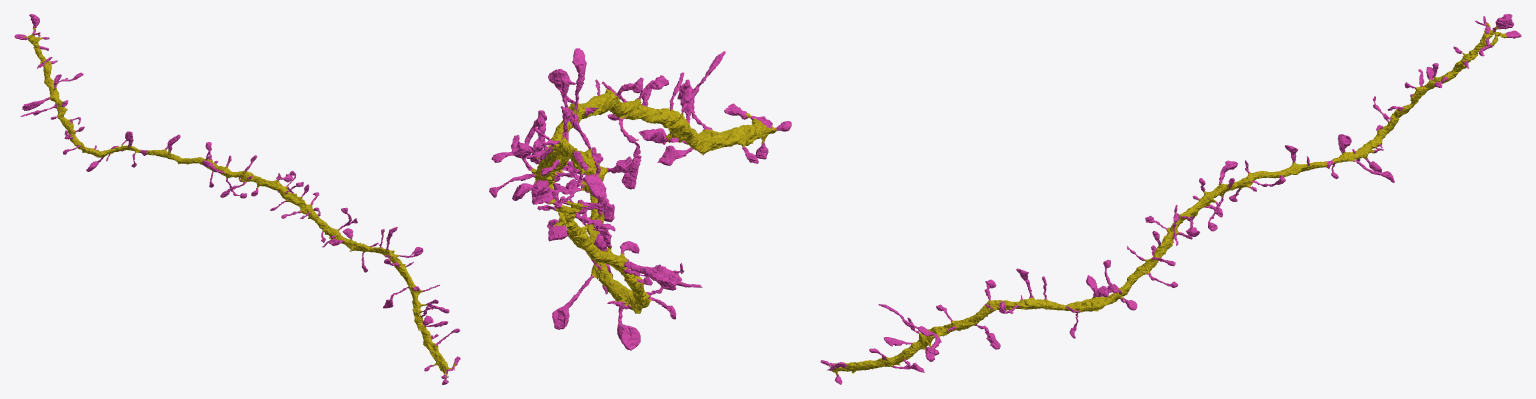
The model's file is sample_mesh.gltf.
The picture shows the model from 3 angles, left to right: view 1: azimuth 30°, elevation 25°; view 2: azimuth 150°, elevation 25°; view 3: azimuth 270°, elevation 25°; orthographic projection. The views are drawn at different scales.
Visible parts, largest first — view 1: Renderer Node; view 2: Renderer Node; view 3: Renderer Node.
Boxes of the visible parts, left/top/right/bottom form: Renderer Node: left=14, top=14, right=460, bottom=384; Renderer Node: left=489, top=48, right=791, bottom=350; Renderer Node: left=820, top=14, right=1521, bottom=384.
Bounding box in the file's own units: 23268 × 19929 × 46074.
Materials: 1 (1 with a texture image).
